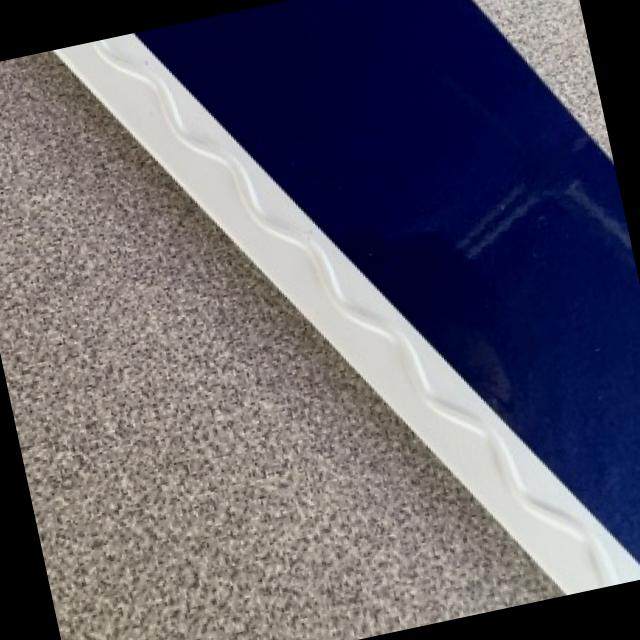healthy: (53, 0, 640, 589), (0, 51, 559, 640)
